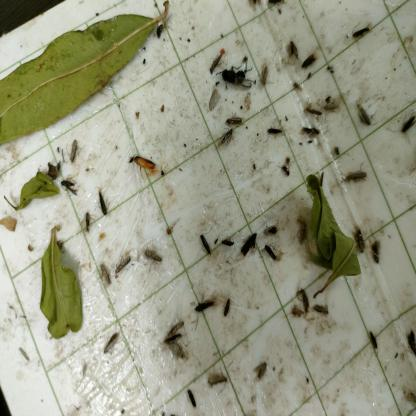prays_oleae: (159, 314, 190, 363), (97, 322, 123, 359), (204, 362, 231, 396), (60, 171, 84, 206), (348, 217, 368, 256), (295, 280, 312, 321), (367, 230, 384, 271), (94, 184, 112, 222), (342, 165, 372, 187), (207, 45, 227, 78), (402, 320, 416, 367), (263, 242, 284, 270), (324, 94, 342, 126), (350, 23, 371, 50), (239, 232, 259, 260), (399, 110, 415, 142), (64, 136, 82, 164), (220, 292, 236, 323), (216, 230, 233, 258), (313, 300, 333, 323), (358, 102, 374, 130), (252, 358, 267, 387), (198, 228, 212, 258), (305, 103, 324, 125), (283, 37, 301, 59), (259, 57, 272, 87), (218, 129, 239, 147), (98, 260, 112, 287), (192, 300, 214, 316), (144, 250, 163, 268), (304, 122, 320, 143), (186, 384, 198, 412), (302, 53, 318, 74), (268, 124, 287, 140), (113, 259, 133, 272), (224, 114, 242, 126)
